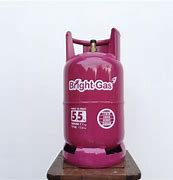bright_gas: (63, 28, 126, 169)
